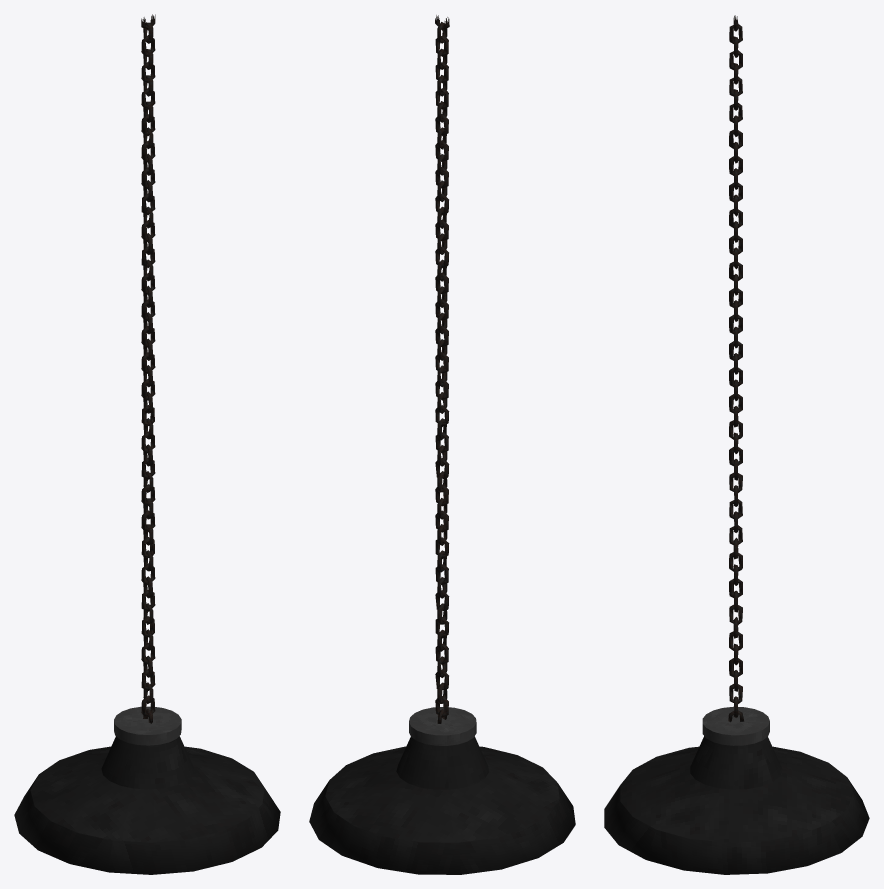
The model's file is hanging_light.glb.
3 renders of one model, left to right at view 1: azimuth 30°, elevation 25°; view 2: azimuth 150°, elevation 25°; view 3: azimuth 270°, elevation 25°, orthographic.
Visible parts, largest first — view 1: HangingLight, Chain; view 2: HangingLight, Chain; view 3: HangingLight, Chain.
Boxes of the visible parts, <box> form: HangingLight: <box>14,706,280,874</box>; Chain: <box>141,14,155,723</box>; HangingLight: <box>309,707,575,874</box>; Chain: <box>435,15,449,723</box>; HangingLight: <box>604,706,869,874</box>; Chain: <box>728,15,744,722</box>.
Bounding box in the file's own units: 0.3504 × 1.24 × 0.3492.
5 materials, 3 textured.
